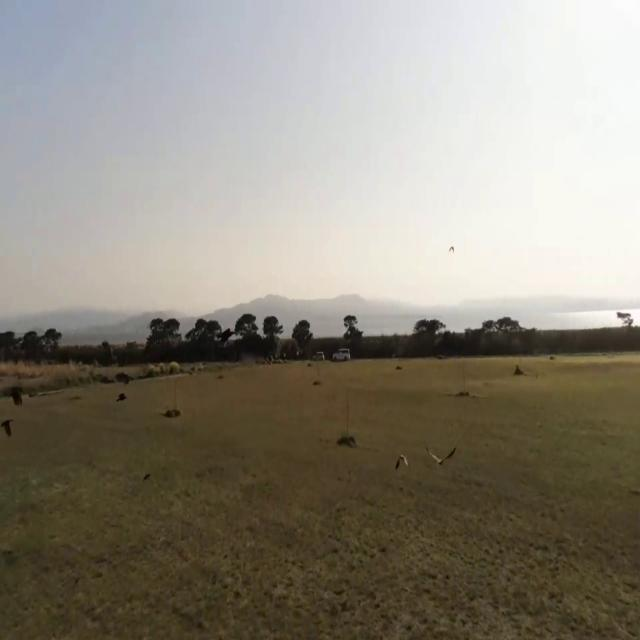bird: (433, 438, 456, 473), (395, 446, 406, 475), (448, 241, 455, 259)
